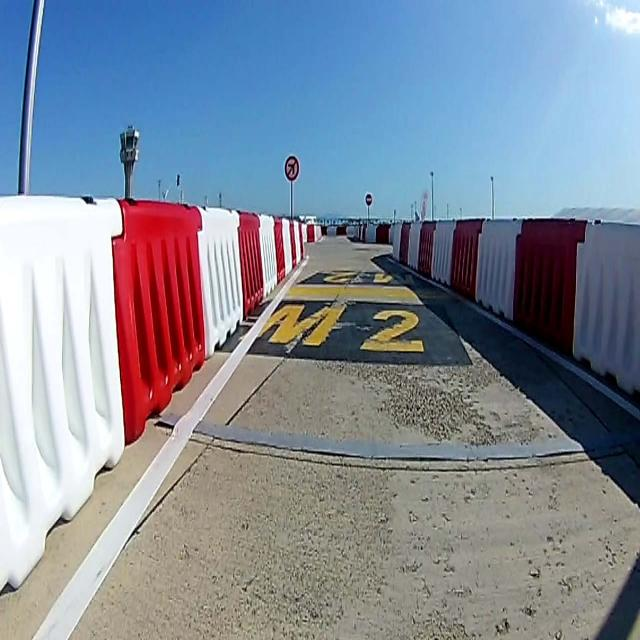girisyok: (366, 193, 372, 206)
soladonulmez: (285, 156, 299, 182)
